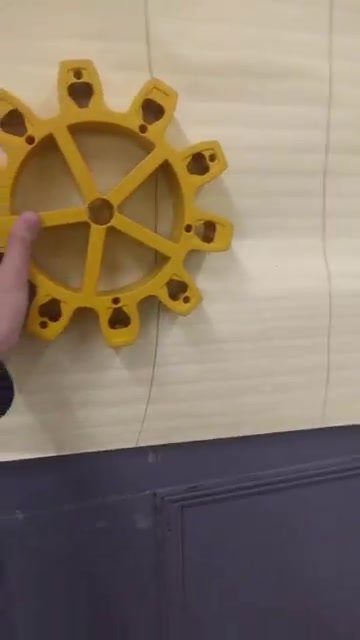gear: (1, 61, 233, 350)
